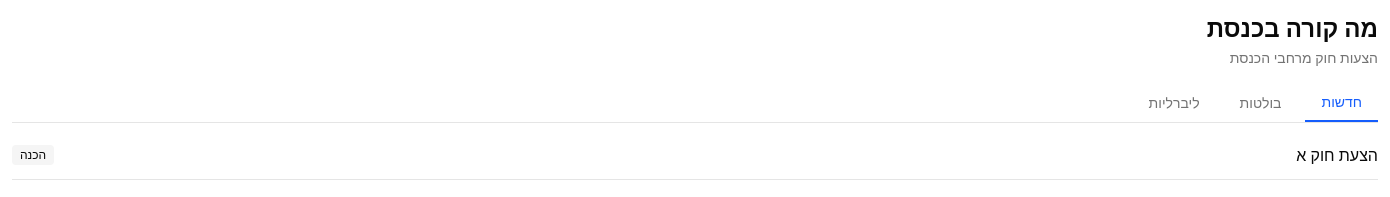
Test: KnessetBillsOverview › switches to the policy tab on click
This screenshot has width=1390, height=197.
Step 1. Click the tab "ליברליות" → [1174, 103], box x1=1133 y1=84 x2=1216 y2=122
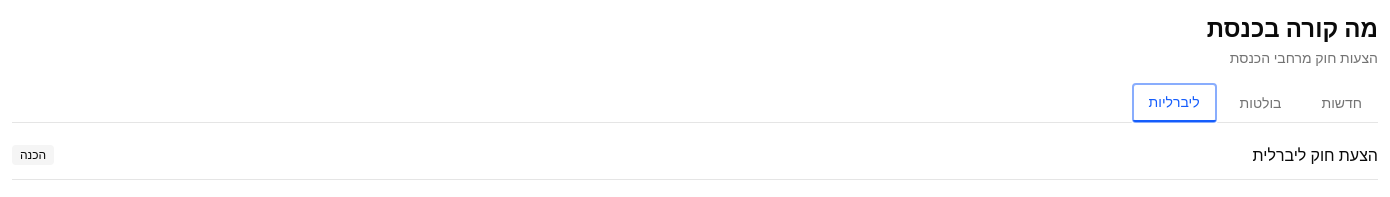
Expected: the text "הצעת חוק ליברלית" is shown, x1=1252 y1=144 x2=1378 y2=166
